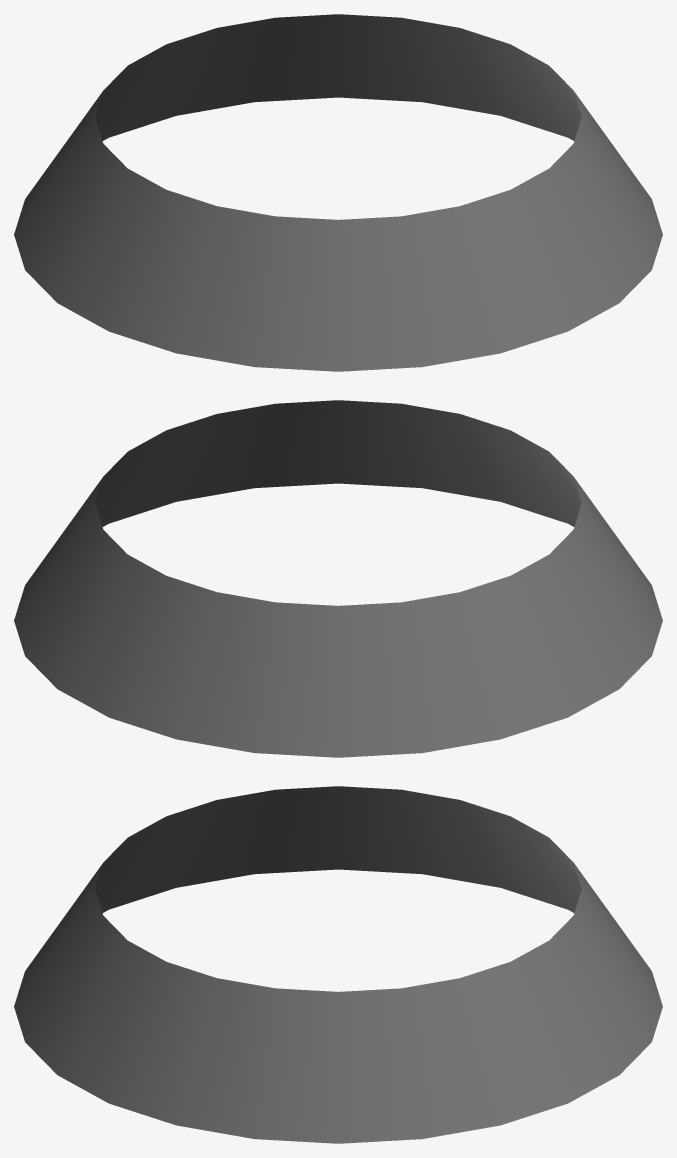
Rendered from vega_adapter_s1_s0p5_1.obj.
3 renders of one model, top to bottom at view 1: azimuth 30°, elevation 25°; view 2: azimuth 150°, elevation 25°; view 3: azimuth 270°, elevation 25°, orthographic.
Visible parts, largest first — view 1: mesh1; view 2: mesh1; view 3: mesh1.
Boxes of the visible parts, <box> form: mesh1: <box>14,14,662,371</box>; mesh1: <box>14,400,662,757</box>; mesh1: <box>14,786,662,1143</box>.
Size of the model in its own units: 1.25 by 0.25 by 1.25.
